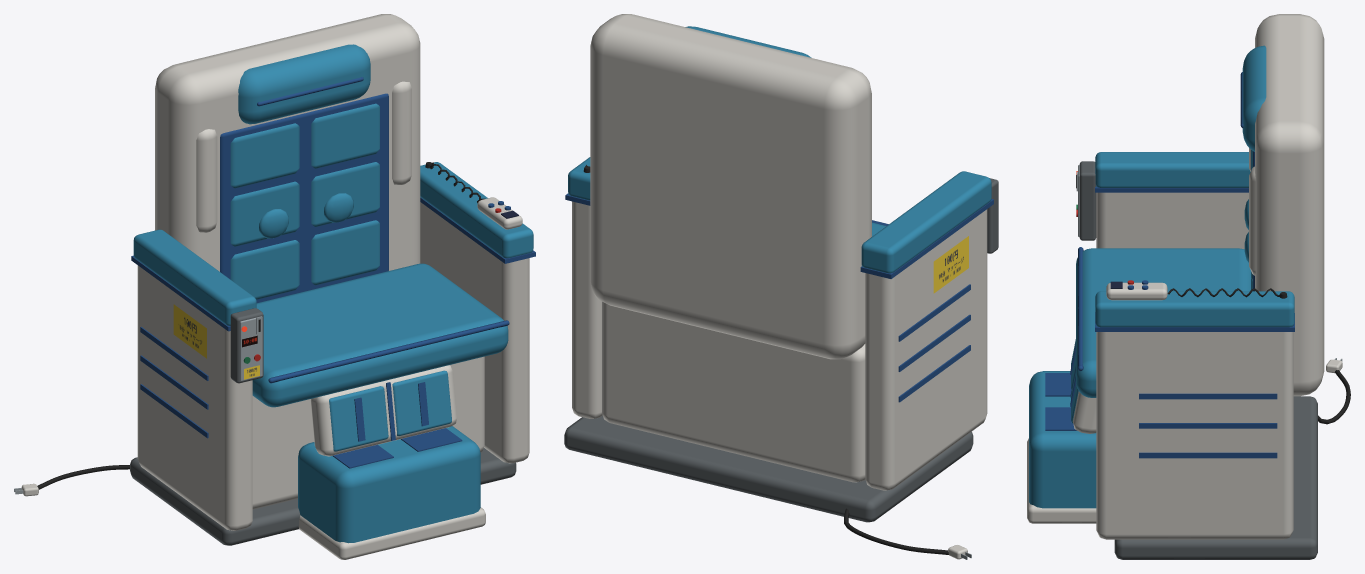
3 views of the same model, side by side, from view 1: azimuth 30°, elevation 25°; view 2: azimuth 150°, elevation 25°; view 3: azimuth 270°, elevation 25° (orthographic). The views are drawn at different scales.
Visible parts, largest first — view 1: Coin massage chair, Massage chair back, Massage chair seat, Massage chair rollers, Massage chair coin box, Massage chair remote, Price sticker, Massage chair coin box (metal), Massage chair cord; view 2: Coin massage chair, Massage chair back, Price sticker, Massage chair cord, Massage chair coin box; view 3: Coin massage chair, Massage chair back, Massage chair seat, Massage chair remote, Massage chair coin box, Massage chair cord.
Boxes of the visible parts, <box> form: Coin massage chair: <box>130,162,535,559</box>; Massage chair back: <box>155,14,420,302</box>; Massage chair seat: <box>252,263,509,407</box>; Massage chair rollers: <box>259,193,353,238</box>; Massage chair coin box: <box>230,308,263,383</box>; Massage chair remote: <box>425,162,522,229</box>; Price sticker: <box>173,304,206,358</box>; Massage chair coin box (metal): <box>240,316,262,381</box>; Massage chair cord: <box>21,465,129,496</box>; Coin massage chair: <box>564,157,993,522</box>; Massage chair back: <box>590,14,871,359</box>; Price sticker: <box>933,236,968,293</box>; Massage chair cord: <box>844,508,967,559</box>; Massage chair coin box: <box>987,178,998,253</box>; Coin massage chair: <box>1027,152,1317,559</box>; Massage chair back: <box>1240,14,1324,396</box>; Massage chair seat: <box>1076,247,1250,397</box>; Massage chair remote: <box>1106,280,1287,300</box>; Massage chair coin box: <box>1076,161,1096,240</box>; Massage chair cord: <box>1318,359,1350,424</box>.
Size of the model in its own units: 1.18 by 1.14 by 0.7956.
Materials: 6 (3 with a texture image).
